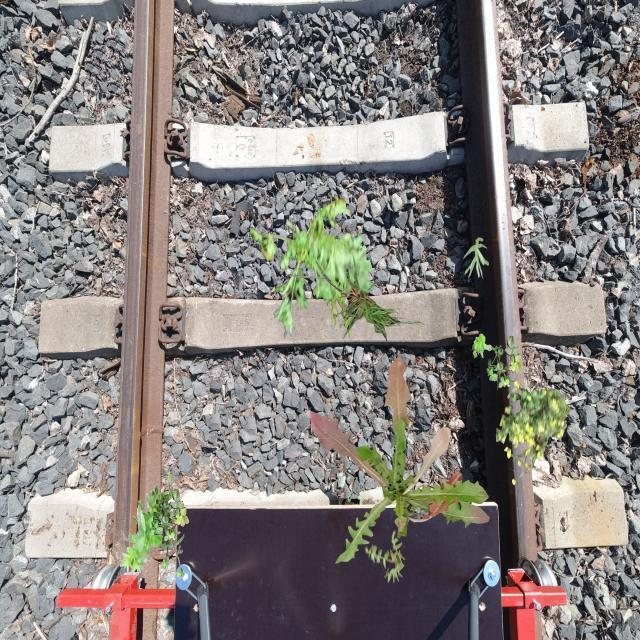Plant: (310, 355, 490, 564), (250, 193, 375, 340), (292, 252, 436, 342), (496, 381, 571, 486), (120, 473, 184, 580), (364, 530, 406, 584), (486, 336, 524, 391), (152, 489, 190, 544), (463, 237, 490, 279), (472, 334, 492, 359)
